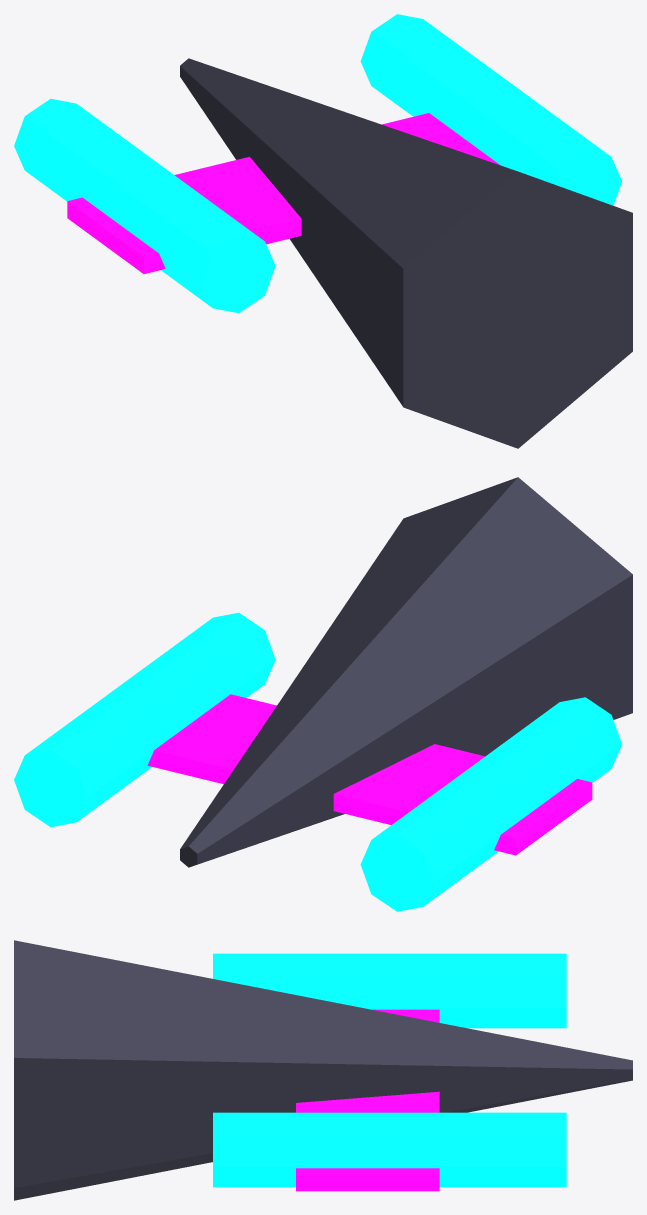
Rendered from hadron_jet.glb.
The picture shows the model from 3 angles, top to bottom: view 1: azimuth 30°, elevation 25°; view 2: azimuth 150°, elevation 25°; view 3: azimuth 270°, elevation 25°; orthographic projection. The views are drawn at different scales.
Parts seen in each view (by area): view 1: Cone, Cylinder, Cylinder.001, Cube; view 2: Cone, Cylinder, Cylinder.001, Cube; view 3: Cone, Cylinder.001, Cylinder, Cube.
Boxes of the visible parts, x1=… form: Cone: x1=180, y1=58, x2=632, y2=448; Cylinder: x1=14, y1=98, x2=275, y2=313; Cylinder.001: x1=360, y1=14, x2=622, y2=205; Cube: x1=67, y1=113, x2=500, y2=273; Cone: x1=180, y1=477, x2=632, y2=867; Cylinder: x1=360, y1=697, x2=622, y2=911; Cylinder.001: x1=14, y1=612, x2=275, y2=827; Cube: x1=147, y1=694, x2=592, y2=855; Cone: x1=14, y1=940, x2=632, y2=1200; Cylinder.001: x1=213, y1=1112, x2=566, y2=1187; Cylinder: x1=213, y1=953, x2=566, y2=1028; Cube: x1=296, y1=1009, x2=439, y2=1191.
Size of the model in its own units: 2.2 by 1.3 by 2.8.
